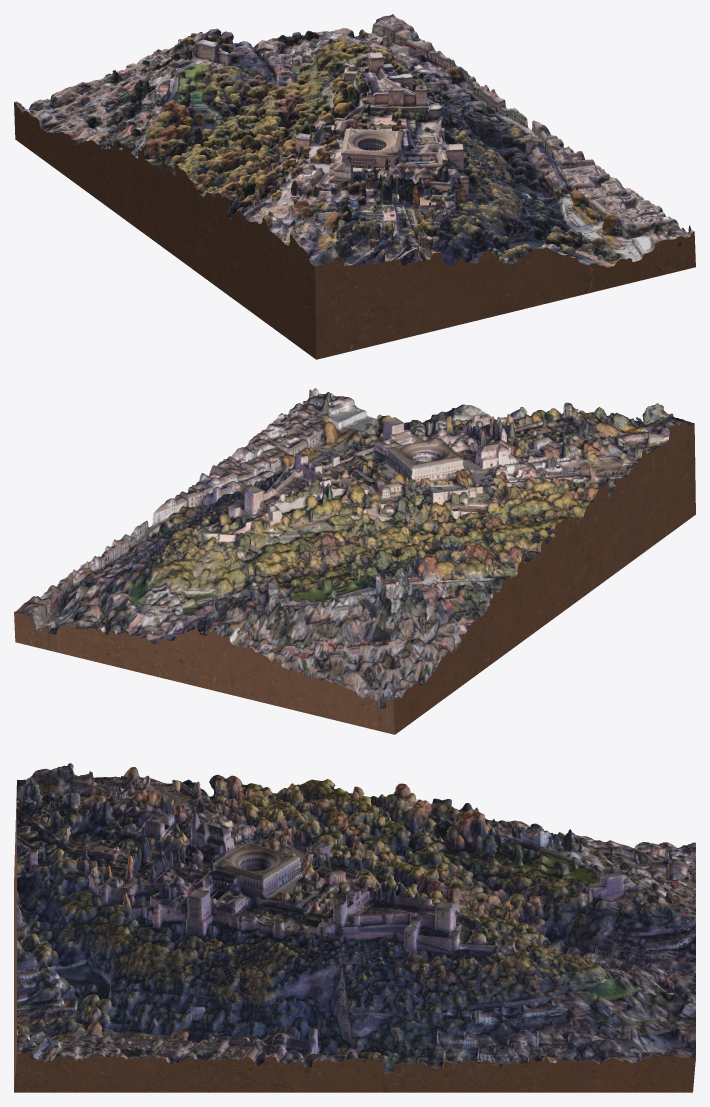
File: alhambra.glb
3 views of the same model, one above another, from view 1: azimuth 30°, elevation 25°; view 2: azimuth 150°, elevation 25°; view 3: azimuth 270°, elevation 25° (orthographic). The views are drawn at different scales.
Parts seen in each view (by area): view 1: Object_8, Object_4, Object_3, Object_5, Object_6, Object_7; view 2: Object_8, Object_6, Object_3, Object_5, Object_4, Object_7; view 3: Object_4, Object_3, Object_5, Object_6, Object_8, Object_7.
Part boxes in pixels (x1,y1,x2,y2): Object_8: (14,15,695,359); Object_4: (274,16,692,265); Object_3: (14,14,694,267); Object_5: (48,32,651,262); Object_6: (17,29,479,207); Object_7: (16,33,673,266); Object_8: (14,406,695,734); Object_6: (171,421,616,706); Object_3: (15,388,694,709); Object_5: (116,403,672,708); Object_4: (18,389,666,634); Object_7: (48,394,669,702); Object_4: (17,776,695,1070); Object_3: (17,763,695,1073); Object_5: (18,767,695,1054); Object_6: (139,776,695,1009); Object_8: (14,777,695,1092); Object_7: (17,775,695,1071).
Size of the model in its own units: 479 by 142 by 660.
Materials: 2 (2 with a texture image).
